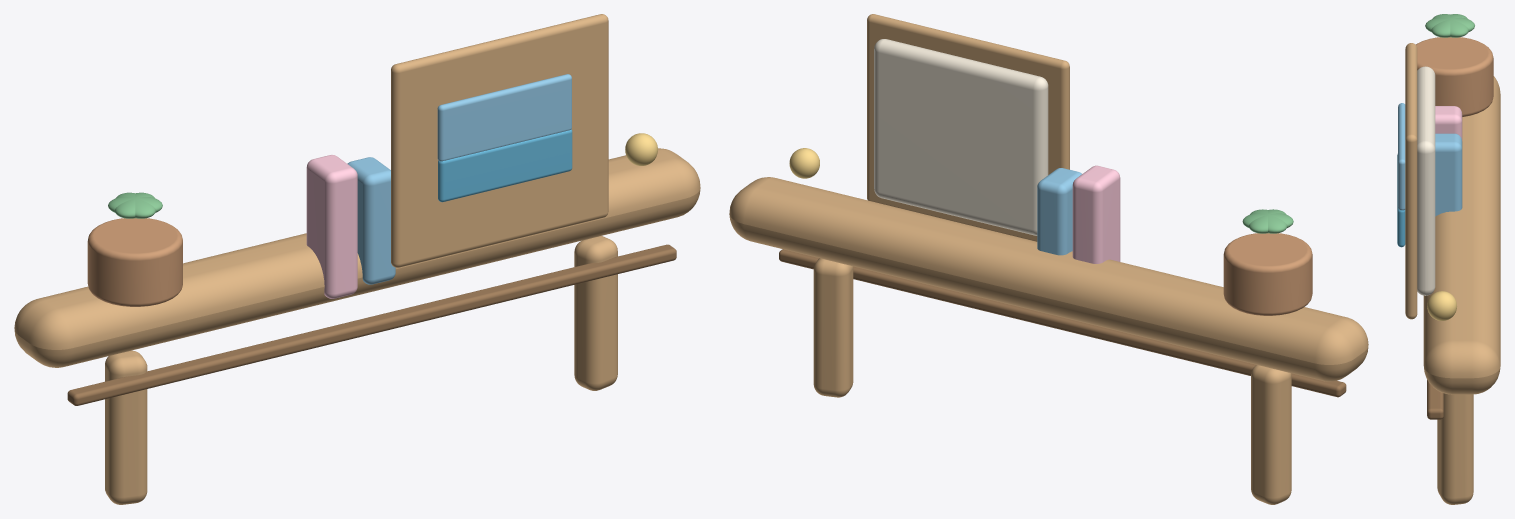
File: 目标图高级后墙搁板画框组合.fbx
3 views of the same model, side by side, from view 1: azimuth 30°, elevation 25°; view 2: azimuth 150°, elevation 25°; view 3: azimuth 270°, elevation 25° (orthographic). The views are drawn at different scales.
Parts seen in each view (by area): view 1: 高级后墙搁板画框组合_v347_暖木相框边, 高级后墙搁板画框组合_v347_圆角厚原木搁板, 高级后墙搁板画框组合_v347_下方柔阴影条, 高级后墙搁板画框组合_v347_蓝天画芯, 高级后墙搁板画框组合_v347_陶土小盆, 高级后墙搁板画框组合_v347_柔粉小书, 高级后墙搁板画框组合_v347_斜木托架.001, 高级后墙搁板画框组合_v347_斜木托架, 高级后墙搁板画框组合_v347_海面画芯, 高级后墙搁板画框组合_v347_海蓝小书, 高级后墙搁板画框组合_v347_金色圆摆件; view 2: 高级后墙搁板画框组合_v347_圆角厚原木搁板, 高级后墙搁板画框组合_v347_奶油相框立板, 高级后墙搁板画框组合_v347_暖木相框边, 高级后墙搁板画框组合_v347_陶土小盆, 高级后墙搁板画框组合_v347_下方柔阴影条, 高级后墙搁板画框组合_v347_斜木托架, 高级后墙搁板画框组合_v347_斜木托架.001, 高级后墙搁板画框组合_v347_柔粉小书, 高级后墙搁板画框组合_v347_海蓝小书, 高级后墙搁板画框组合_v347_金色圆摆件; view 3: 高级后墙搁板画框组合_v347_圆角厚原木搁板, 高级后墙搁板画框组合_v347_陶土小盆, 高级后墙搁板画框组合_v347_奶油相框立板, 高级后墙搁板画框组合_v347_斜木托架.001, 高级后墙搁板画框组合_v347_暖木相框边, 高级后墙搁板画框组合_v347_海蓝小书, 高级后墙搁板画框组合_v347_蓝天画芯, 高级后墙搁板画框组合_v347_柔粉小书, 高级后墙搁板画框组合_v347_金色圆摆件, 高级后墙搁板画框组合_v347_下方柔阴影条, 高级后墙搁板画框组合_v347_海面画芯, 高级后墙搁板画框组合_v347_圆润盆栽叶.001 (+4 smaller).
Part boxes in pixels (<box>): 高级后墙搁板画框组合_v347_暖木相框边: <box>391,14,608,267</box>; 高级后墙搁板画框组合_v347_圆角厚原木搁板: <box>14,148,700,367</box>; 高级后墙搁板画框组合_v347_下方柔阴影条: <box>67,244,676,405</box>; 高级后墙搁板画框组合_v347_蓝天画芯: <box>437,74,571,161</box>; 高级后墙搁板画框组合_v347_陶土小盆: <box>87,218,182,306</box>; 高级后墙搁板画框组合_v347_柔粉小书: <box>306,155,357,298</box>; 高级后墙搁板画框组合_v347_斜木托架.001: <box>574,236,617,390</box>; 高级后墙搁板画框组合_v347_斜木托架: <box>105,350,147,504</box>; 高级后墙搁板画框组合_v347_海面画芯: <box>438,129,572,202</box>; 高级后墙搁板画框组合_v347_海蓝小书: <box>347,157,395,284</box>; 高级后墙搁板画框组合_v347_金色圆摆件: <box>625,133,657,165</box>; 高级后墙搁板画框组合_v347_圆角厚原木搁板: <box>729,177,1368,381</box>; 高级后墙搁板画框组合_v347_奶油相框立板: <box>874,39,1048,235</box>; 高级后墙搁板画框组合_v347_暖木相框边: <box>867,14,1069,241</box>; 高级后墙搁板画框组合_v347_陶土小盆: <box>1223,233,1312,315</box>; 高级后墙搁板画框组合_v347_下方柔阴影条: <box>779,249,1346,397</box>; 高级后墙搁板画框组合_v347_斜木托架: <box>1251,365,1291,504</box>; 高级后墙搁板画框组合_v347_斜木托架.001: <box>813,258,853,397</box>; 高级后墙搁板画框组合_v347_柔粉小书: <box>1072,165,1120,263</box>; 高级后墙搁板画框组合_v347_海蓝小书: <box>1037,168,1081,255</box>; 高级后墙搁板画框组合_v347_金色圆摆件: <box>789,148,819,178</box>; 高级后墙搁板画框组合_v347_圆角厚原木搁板: <box>1423,76,1500,394</box>; 高级后墙搁板画框组合_v347_陶土小盆: <box>1415,37,1493,116</box>; 高级后墙搁板画框组合_v347_奶油相框立板: <box>1417,66,1435,295</box>; 高级后墙搁板画框组合_v347_斜木托架.001: <box>1437,393,1473,504</box>; 高级后墙搁板画框组合_v347_暖木相框边: <box>1405,43,1417,319</box>; 高级后墙搁板画框组合_v347_海蓝小书: <box>1435,133,1462,216</box>; 高级后墙搁板画框组合_v347_蓝天画芯: <box>1398,103,1405,210</box>; 高级后墙搁板画框组合_v347_柔粉小书: <box>1435,106,1462,140</box>; 高级后墙搁板画框组合_v347_金色圆摆件: <box>1427,291,1456,320</box>; 高级后墙搁板画框组合_v347_下方柔阴影条: <box>1427,380,1443,419</box>; 高级后墙搁板画框组合_v347_海面画芯: <box>1397,154,1405,247</box>; 高级后墙搁板画框组合_v347_圆润盆栽叶.001: <box>1432,14,1467,37</box>.
Bounding box in the file's own units: 105 × 59.25 × 15.45.
